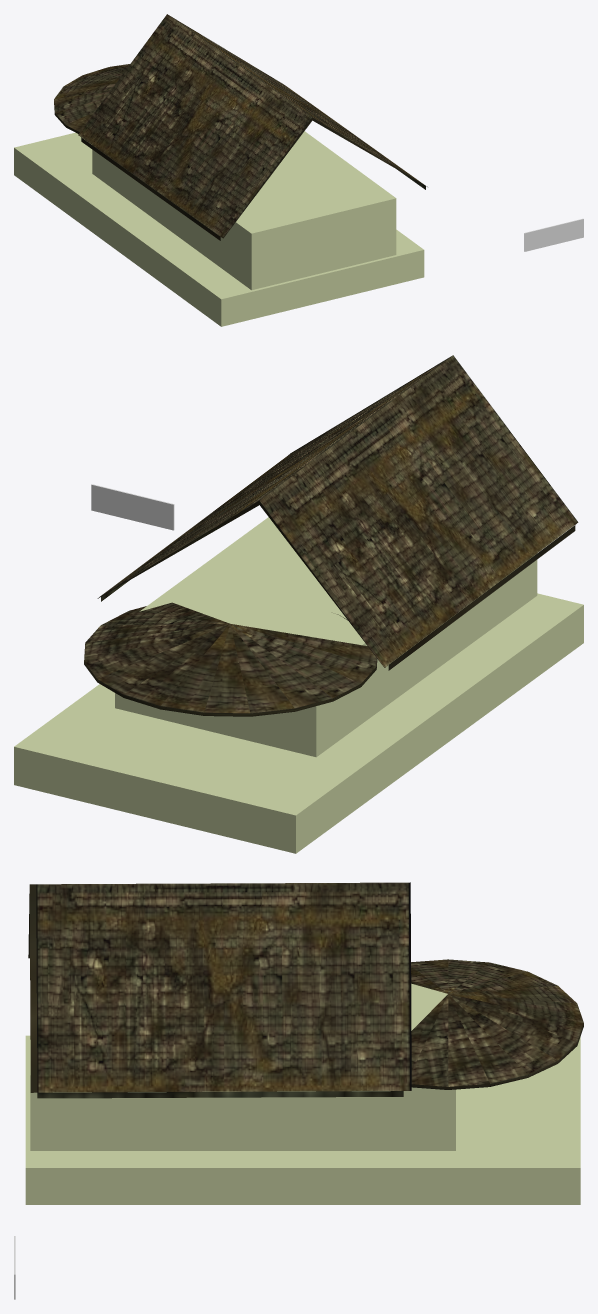
The picture shows the model from 3 angles, top to bottom: view 1: azimuth 30°, elevation 25°; view 2: azimuth 150°, elevation 25°; view 3: azimuth 270°, elevation 25°; orthographic projection. The views are drawn at different scales.
Parts seen in each view (by area): view 1: dweller_building_training; view 2: dweller_building_training; view 3: dweller_building_training.
Part boxes in pixels (bbox=[...]): dweller_building_training: bbox=[14, 14, 583, 326]; dweller_building_training: bbox=[14, 355, 583, 853]; dweller_building_training: bbox=[14, 882, 583, 1299].
Bounding box in the file's own units: 18.17 × 9 × 18.7.
3 materials, 1 textured.
